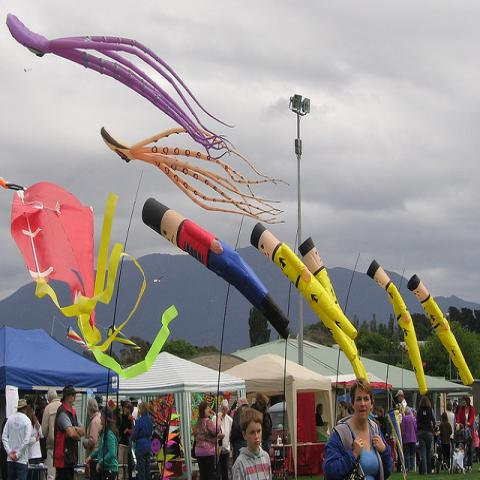car: (267, 400, 284, 430)
